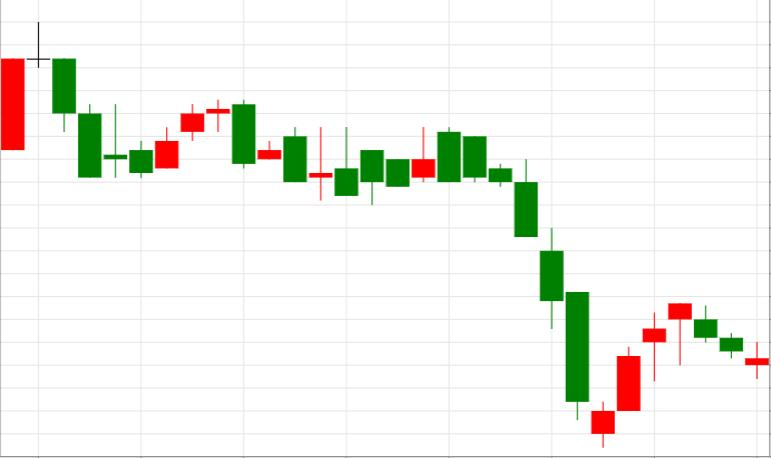morning_star_rise: (437, 126, 640, 448)
